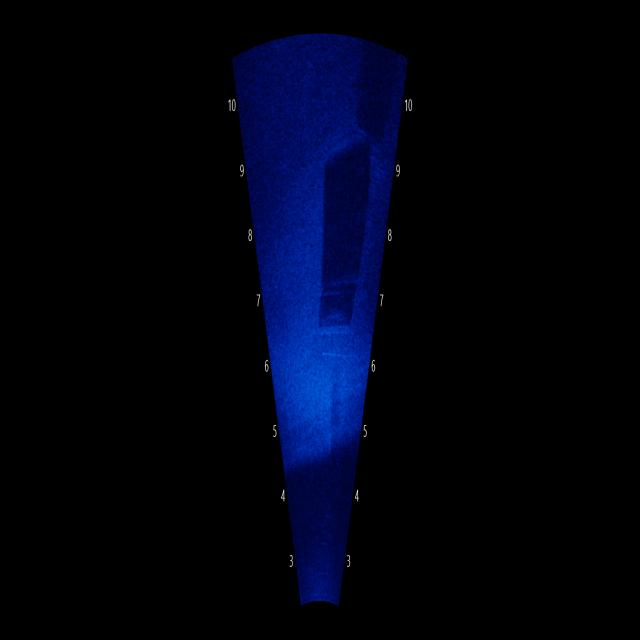square: (313, 132, 376, 348)
